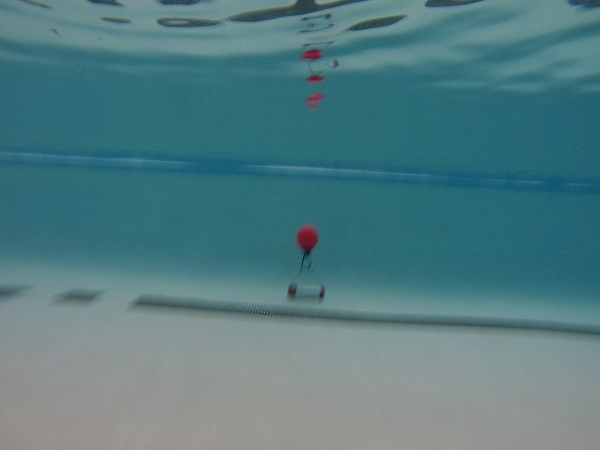buoy_red: (293, 224, 320, 257)
